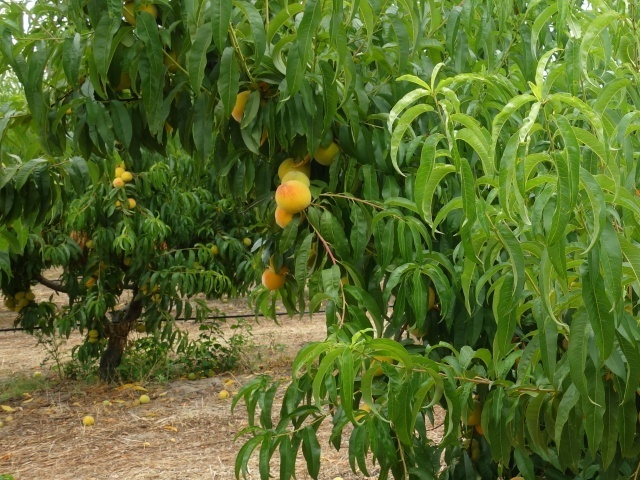peach: (266, 181, 315, 214), (227, 88, 263, 125), (308, 135, 343, 168), (268, 205, 308, 231), (275, 152, 307, 180), (459, 398, 487, 429), (274, 170, 313, 190), (257, 267, 286, 293)
